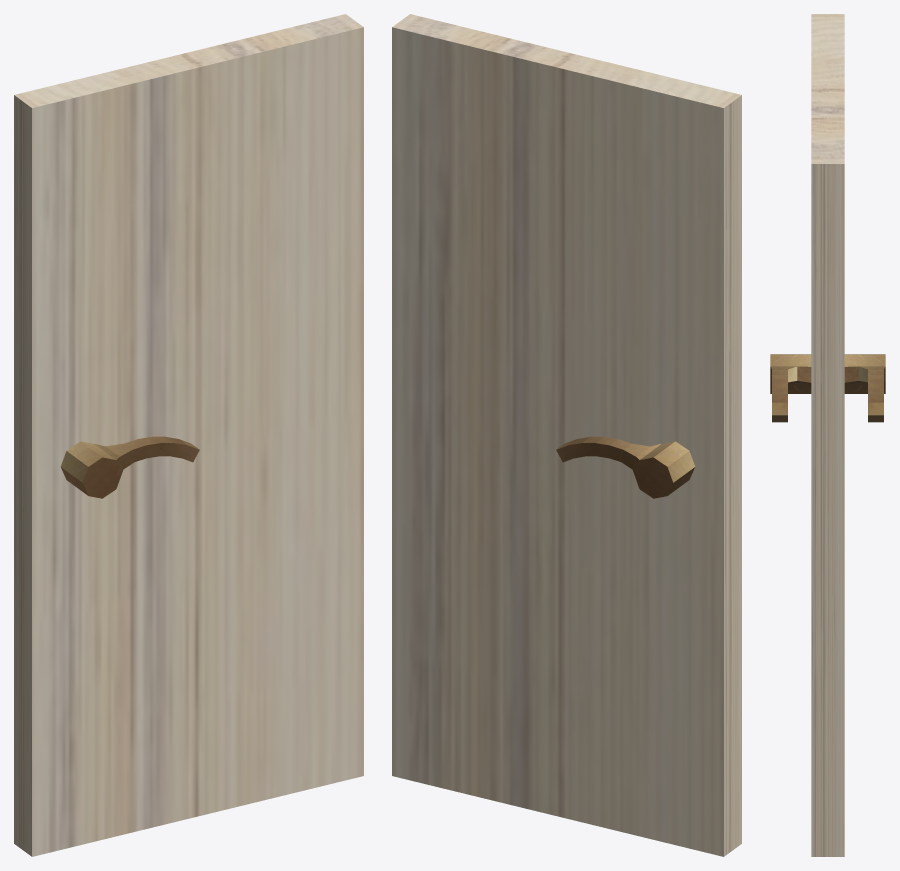
Rendered from дверьдвери1fbx.fbx.
3 renders of one model, left to right at view 1: azimuth 30°, elevation 25°; view 2: azimuth 150°, elevation 25°; view 3: azimuth 270°, elevation 25°, orthographic. The views are drawn at different scales.
Visible parts, largest first — view 1: Cube.001; view 2: Cube.001; view 3: Cube.001.
Boxes of the visible parts, x1,y1,x2,y2 form: Cube.001: (14, 14, 363, 856); Cube.001: (392, 14, 741, 856); Cube.001: (770, 14, 885, 856).
Bounding box in the file's own units: 183 × 395 × 59.4.
Materials: 2 (2 with a texture image).
